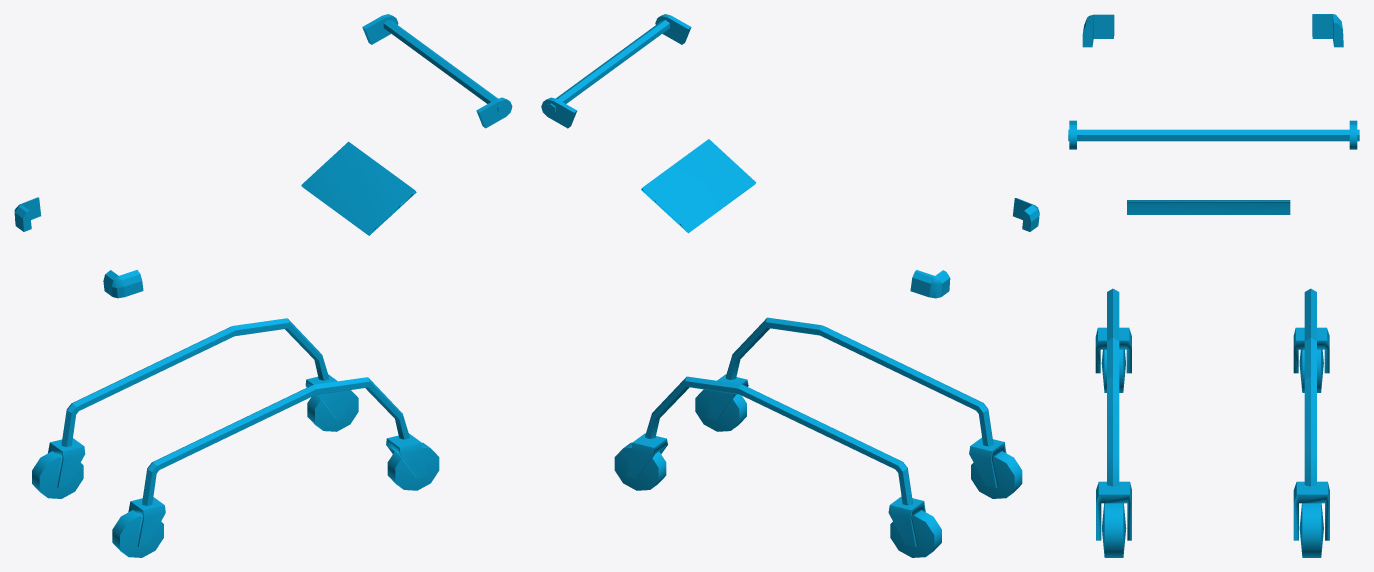
Rendered from Shopping_Cart_03.fbx.
The picture shows the model from 3 angles, left to right: view 1: azimuth 30°, elevation 25°; view 2: azimuth 150°, elevation 25°; view 3: azimuth 270°, elevation 25°; orthographic projection. The views are drawn at different scales.
Visible parts, largest first — view 1: Shopping_Cart_03; view 2: Shopping_Cart_03; view 3: Shopping_Cart_03.
Boxes of the visible parts, x1=… form: Shopping_Cart_03: x1=14, y1=14, x2=512, y2=557; Shopping_Cart_03: x1=541, y1=14, x2=1039, y2=557; Shopping_Cart_03: x1=1068, y1=14, x2=1359, y2=557.
Bounding box in the file's own units: 102 × 95.96 × 53.72.
